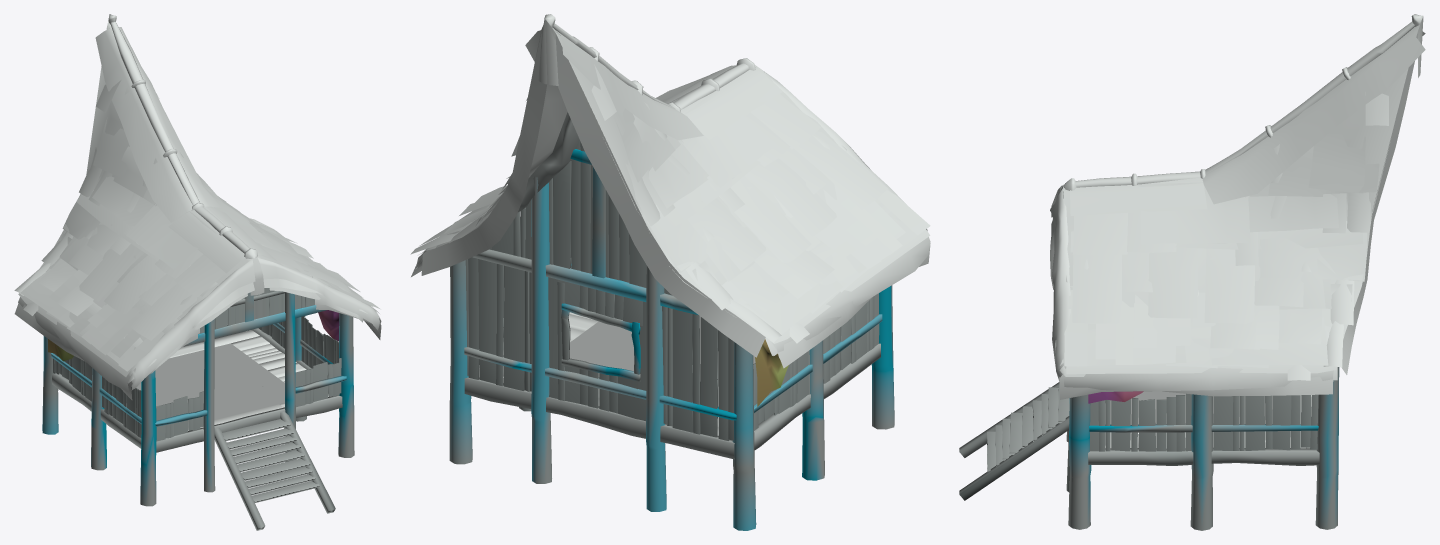
The picture shows the model from 3 angles, left to right: view 1: azimuth 30°, elevation 25°; view 2: azimuth 150°, elevation 25°; view 3: azimuth 270°, elevation 25°; orthographic projection. The views are drawn at different scales.
Visible parts, largest first — view 1: G:\FFXIV-MapTools\exports\m5f1\bg\ex4\02_mid_m5\fld\m5f1\bgp (×7); view 2: G:\FFXIV-MapTools\exports\m5f1\bg\ex4\02_mid_m5\fld\m5f1\bgp (×5); view 3: G:\FFXIV-MapTools\exports\m5f1\bg\ex4\02_mid_m5\fld\m5f1\bgp (×4).
Part boxes in pixels (box(x1,y1,x2,y2)): G:\FFXIV-MapTools\exports\m5f1\bg\ex4\02_mid_m5\fld\m5f1\bgp (×7): box(14, 14, 381, 530); G:\FFXIV-MapTools\exports\m5f1\bg\ex4\02_mid_m5\fld\m5f1\bgp (×5): box(410, 19, 930, 530); G:\FFXIV-MapTools\exports\m5f1\bg\ex4\02_mid_m5\fld\m5f1\bgp (×4): box(959, 17, 1425, 530).
Size of the model in its own units: 16.42 by 22.09 by 20.18.
